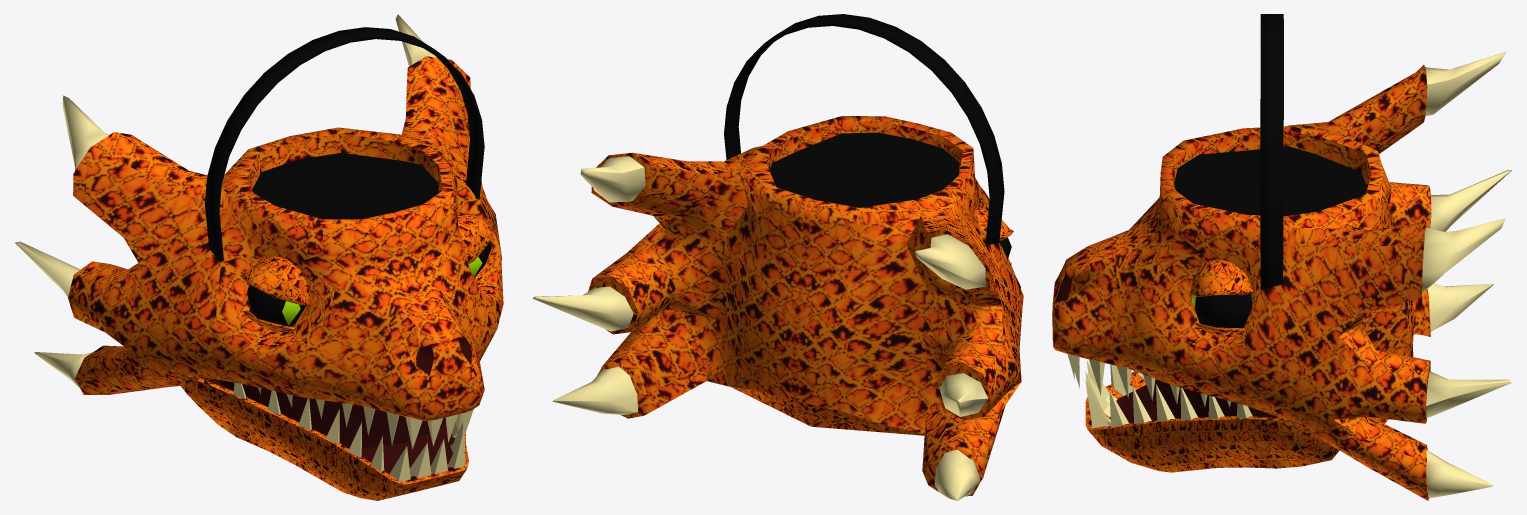
The model's file is Halloween Dragon Basket (FOR TEST).glb.
The picture shows the model from 3 angles, left to right: view 1: azimuth 30°, elevation 25°; view 2: azimuth 150°, elevation 25°; view 3: azimuth 270°, elevation 25°; orthographic projection. The views are drawn at different scales.
Parts seen in each view (by area): view 1: basket; view 2: basket; view 3: basket.
Part boxes in pixels (x1,y1,x2,y2): basket: (15,14,503,500); basket: (532,14,1023,500); basket: (1052,14,1511,500).
Bounding box in the file's own units: 1.46 × 1.35 × 1.33.
Materials: 1 (1 with a texture image).
